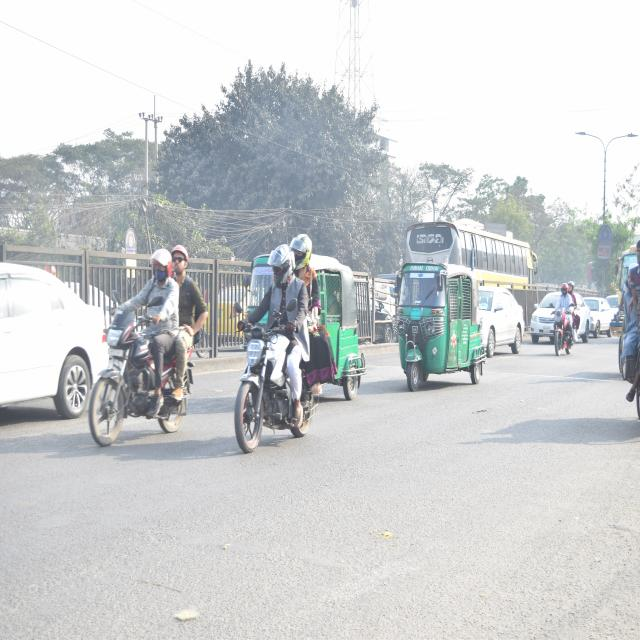bus: (406, 218, 535, 282)
car: (0, 245, 107, 406), (474, 279, 520, 363), (528, 289, 561, 338), (586, 288, 610, 339)
motorbike: (85, 316, 203, 444), (231, 312, 318, 472), (551, 303, 575, 368)
